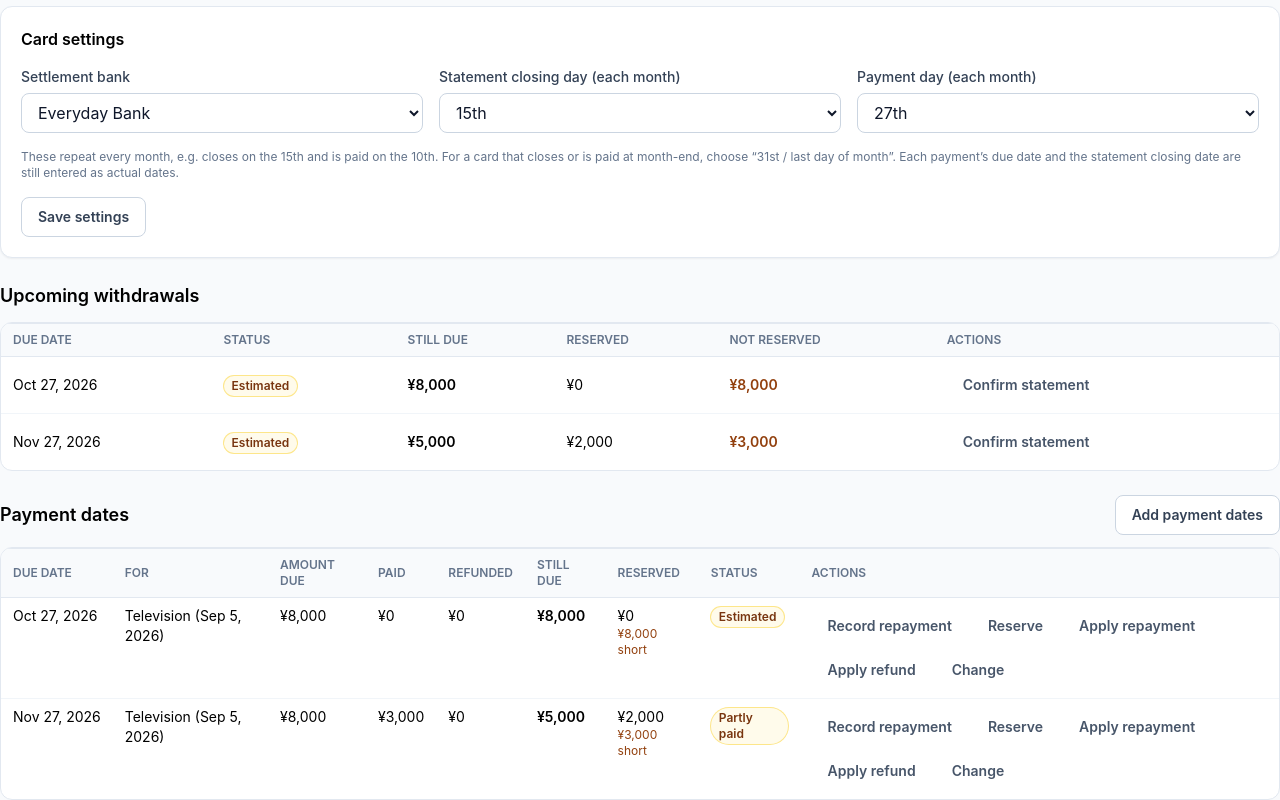
it: reserves existing money without moving it and explains insufficient cash
The image size is (1280, 800).
(page scrolled)
Click the button named "Reserve for Oct 27, 2026": (1016, 626) top-left (972, 606), bottom-right (1059, 646)
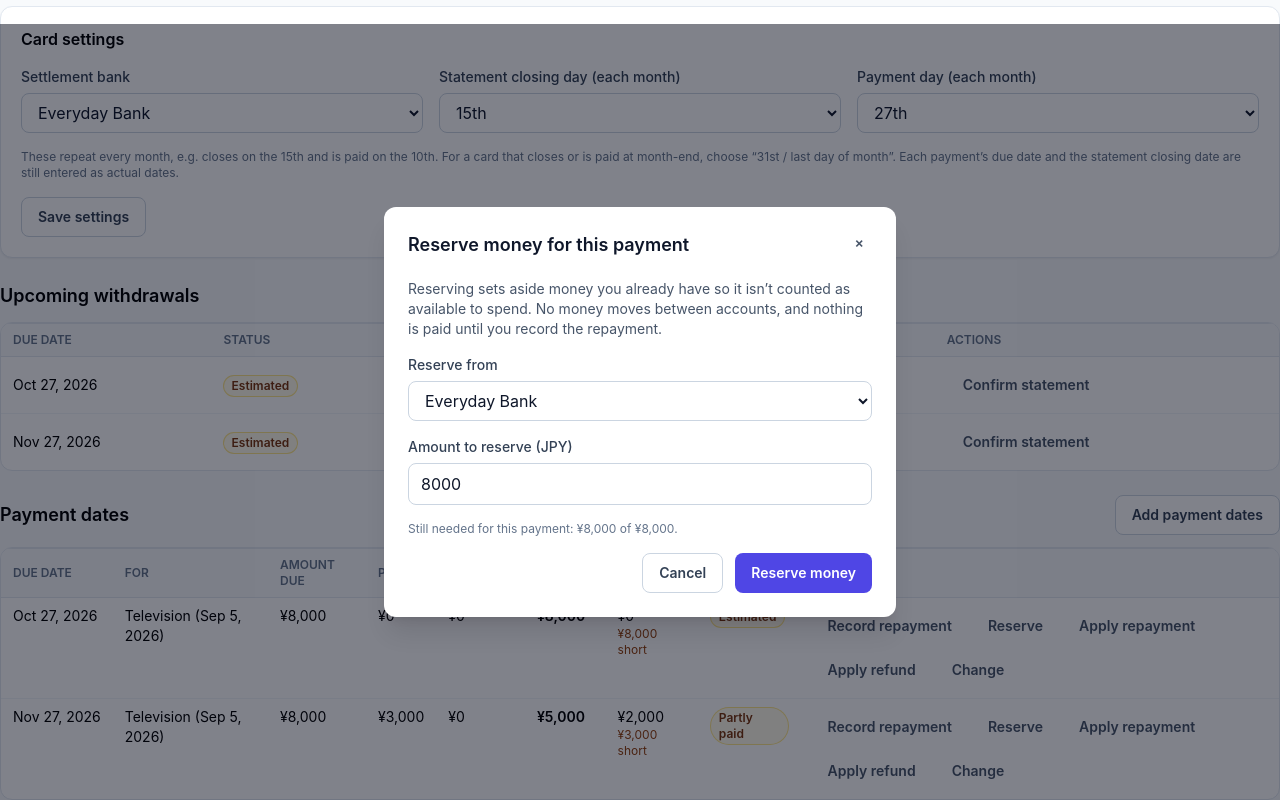
Check: the text "No money moves between accounts" is shown, box top-left (408, 280), bottom-right (863, 337)
Check: the dropdown labelled "Reserve from" shows "Everyday Bank", box top-left (408, 381), bottom-right (872, 421)
Check: the field labelled "Amount to reserve (JPY)" holds "8000", box top-left (408, 463), bottom-right (872, 505)
Click the button "Reserve money": (804, 573) top-left (735, 553), bottom-right (872, 593)
(page scrolled)
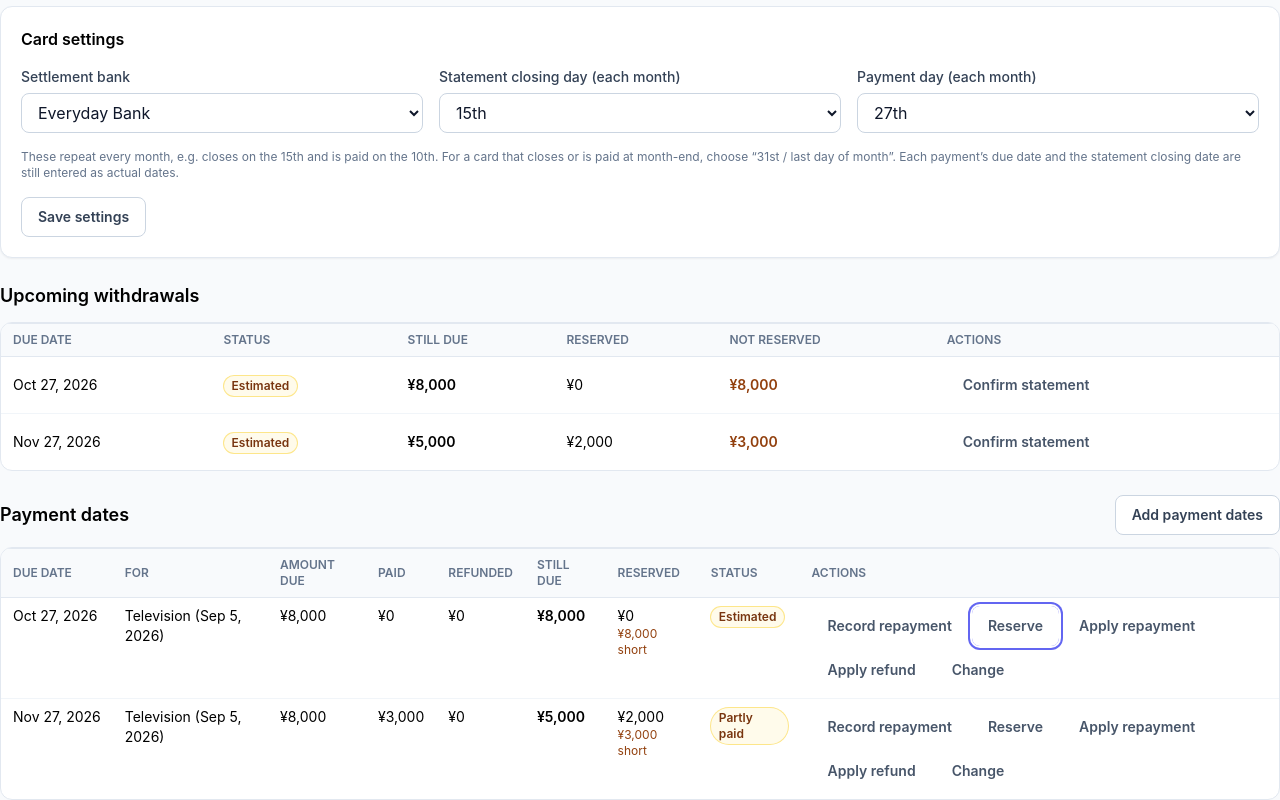
Click the button named "Reserve for Oct 27, 2026": (1016, 626) top-left (972, 606), bottom-right (1059, 646)
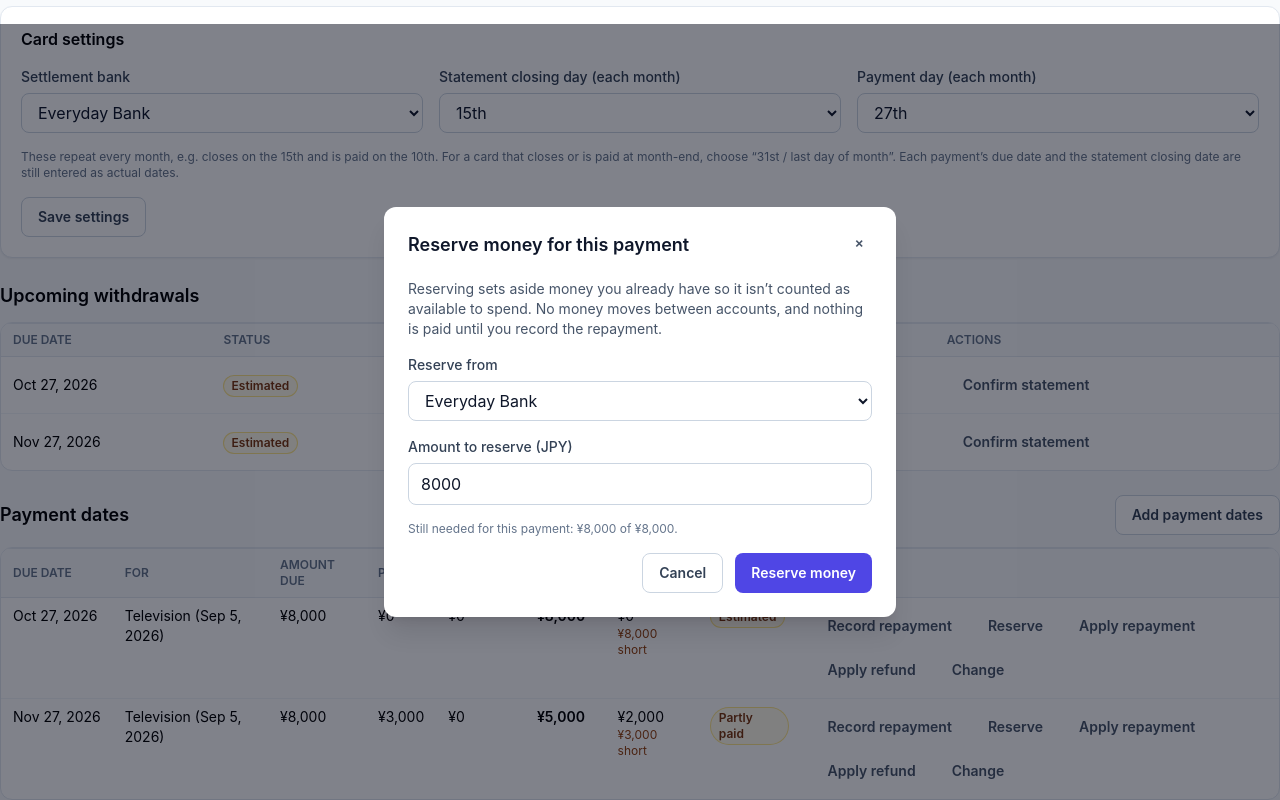
Click the button "Reserve money": (804, 573) top-left (735, 553), bottom-right (872, 593)
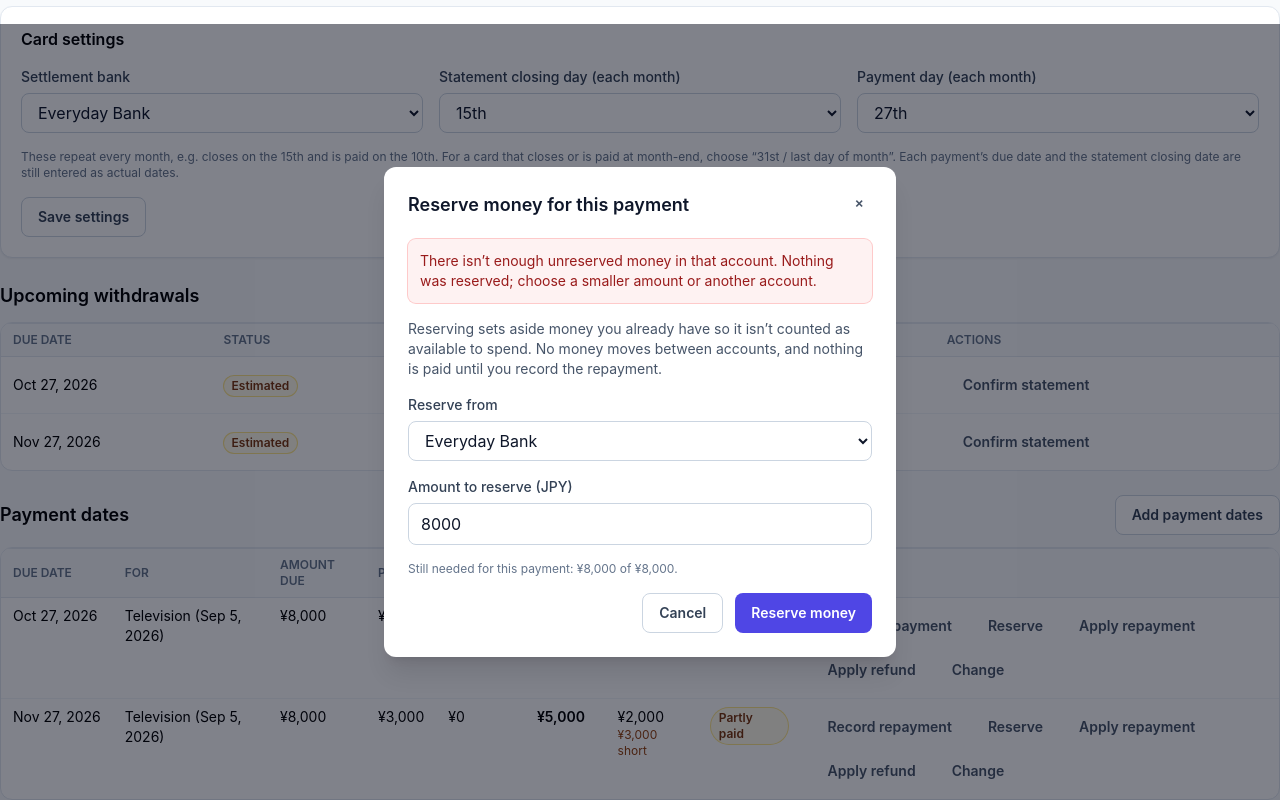
Check: the field labelled "Amount to reserve (JPY)" holds "8000", box top-left (408, 503), bottom-right (872, 545)
Check: the message shows "There isn’t enough unreserved money", box top-left (420, 252), bottom-right (834, 289)
